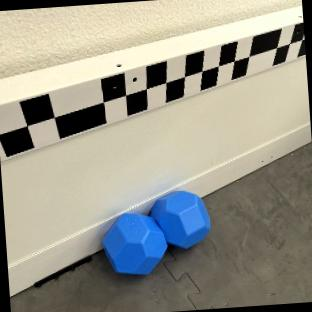V5_BLUE: (100, 189, 210, 276)
